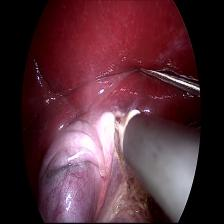Grasper: (140, 52, 205, 101)
Hook: (99, 103, 146, 165)
